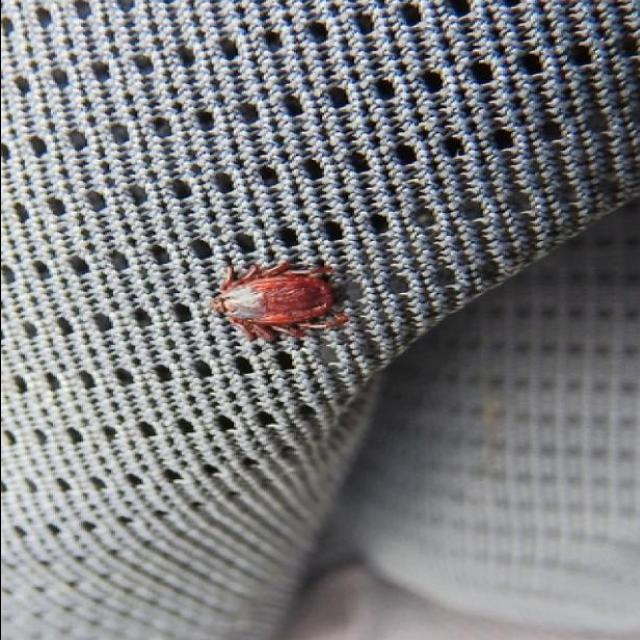Rhipicephalus Sanguineus-F: (211, 256, 347, 345)
